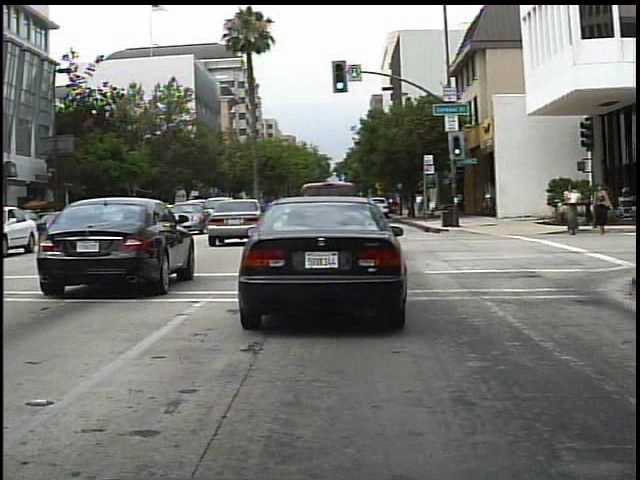person: (560, 178, 586, 240), (589, 181, 616, 238), (410, 187, 427, 218)
